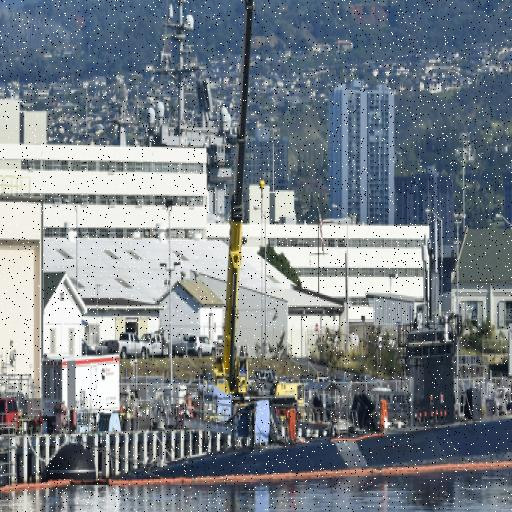submarine: (40, 339, 512, 483)
